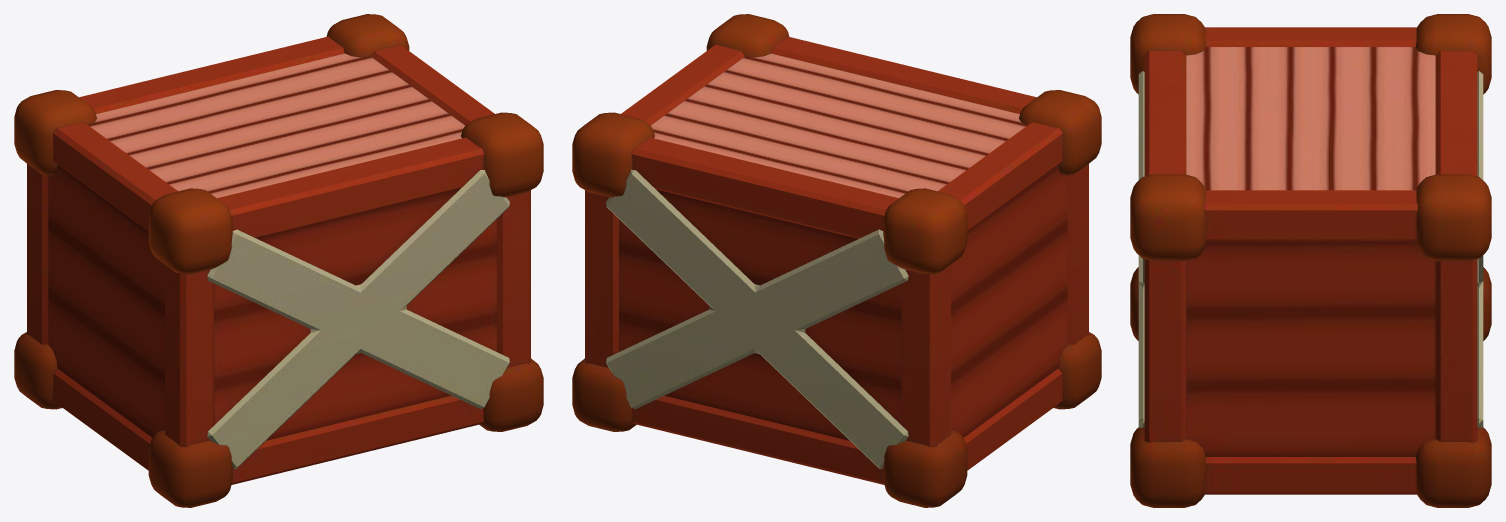
File: xbox_red_1_high.glb
3 renders of one model, left to right at view 1: azimuth 30°, elevation 25°; view 2: azimuth 150°, elevation 25°; view 3: azimuth 270°, elevation 25°, orthographic. The views are drawn at different scales.
Visible parts, largest first — view 1: xbox_red_1; view 2: xbox_red_1; view 3: xbox_red_1.
Boxes of the visible parts, x1,y1,x2,y2 form: xbox_red_1: (14, 14, 543, 507); xbox_red_1: (572, 14, 1101, 507); xbox_red_1: (1130, 14, 1491, 507).
Bounding box in the file's own units: 0.768 × 0.588 × 0.608.
1 material, 1 textured.
